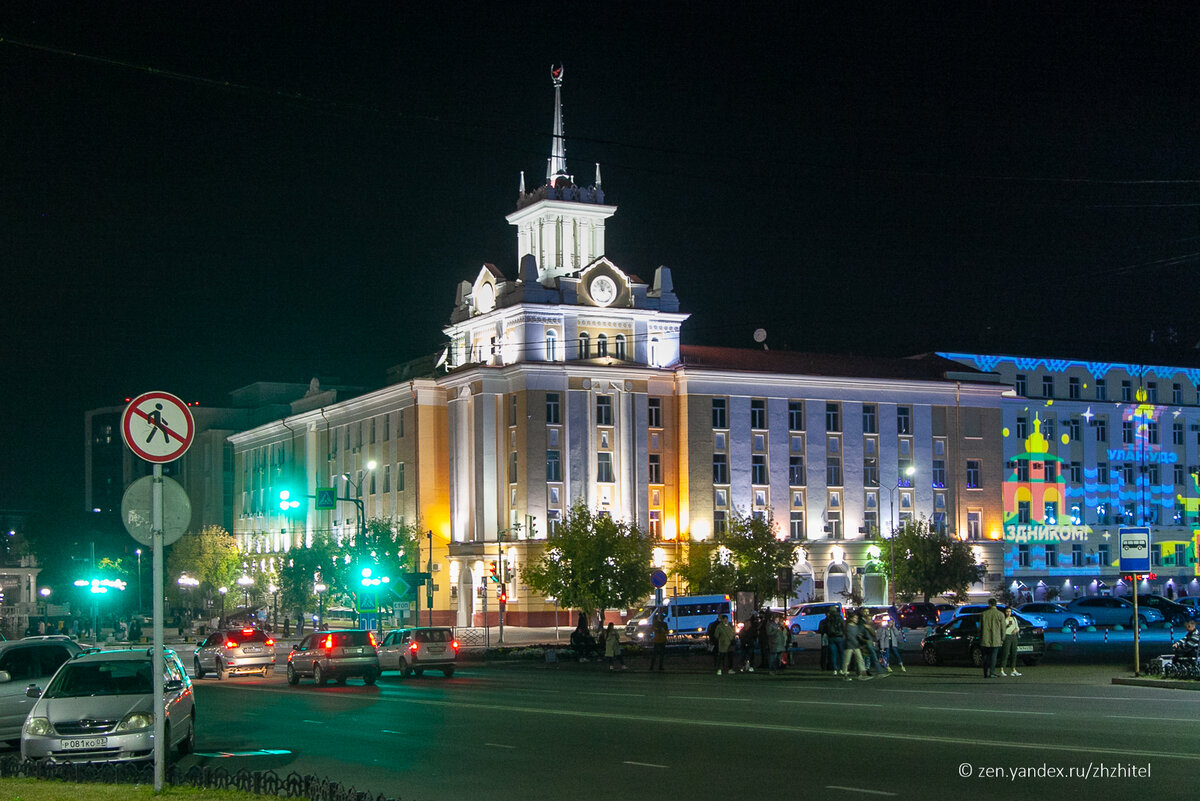sign: (116, 388, 200, 468), (1116, 524, 1153, 574), (387, 575, 412, 600), (356, 589, 379, 612), (315, 486, 337, 510), (358, 611, 378, 632), (650, 569, 668, 589), (425, 578, 435, 598), (392, 601, 410, 610)
